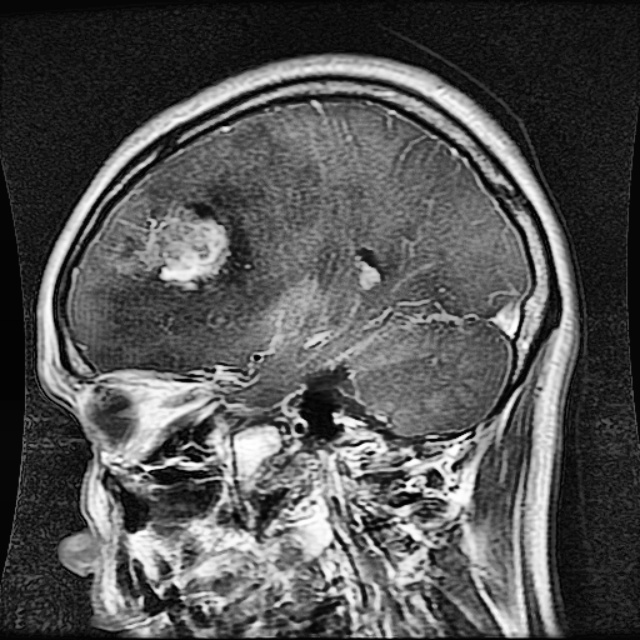Meningioma: (142, 207, 233, 290)
